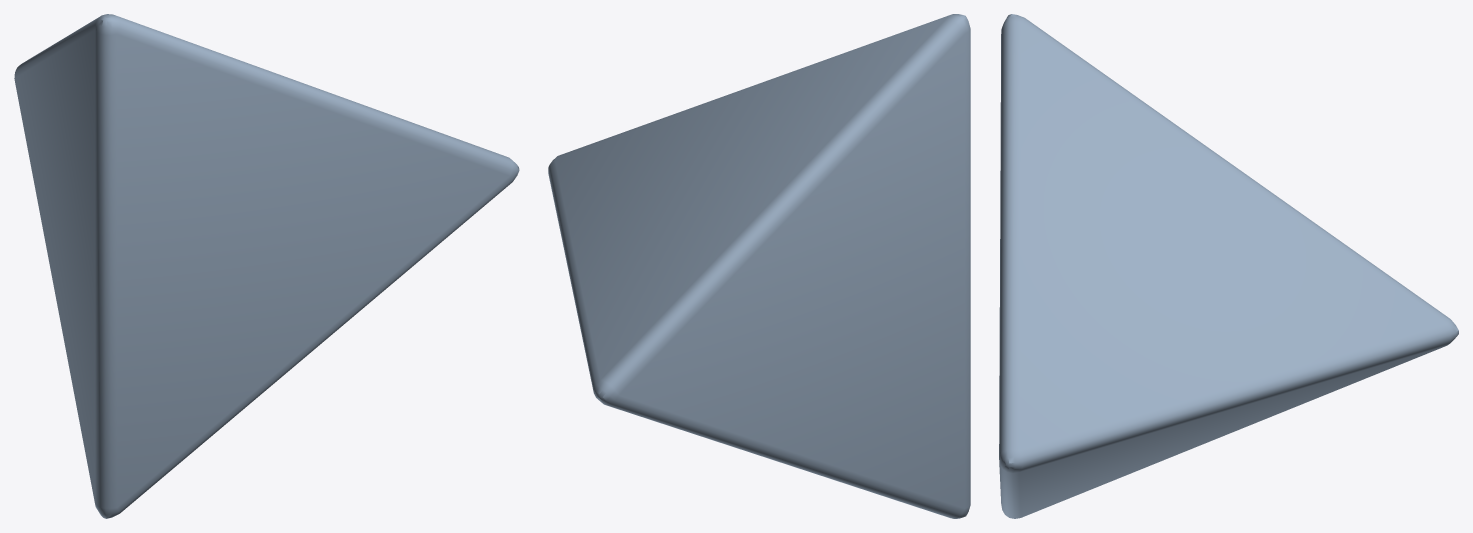
Rendered from tetrahedron.glb.
The picture shows the model from 3 angles, left to right: view 1: azimuth 30°, elevation 25°; view 2: azimuth 150°, elevation 25°; view 3: azimuth 270°, elevation 25°; orthographic projection.
Visible parts, largest first — view 1: Cube; view 2: Cube; view 3: Cube.
Boxes of the visible parts, x1,y1,x2,y2 form: Cube: (14, 14, 519, 518); Cube: (548, 14, 970, 518); Cube: (999, 14, 1458, 518).
Bounding box in the file's own units: 2.3 × 2.63 × 2.18.
